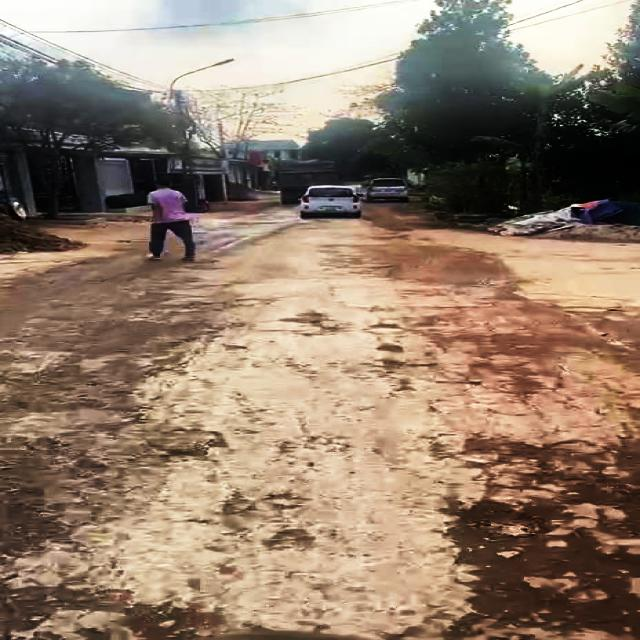pothole: (447, 494, 640, 636), (0, 586, 214, 640)
